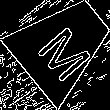M_NE: (30, 11, 96, 79)
